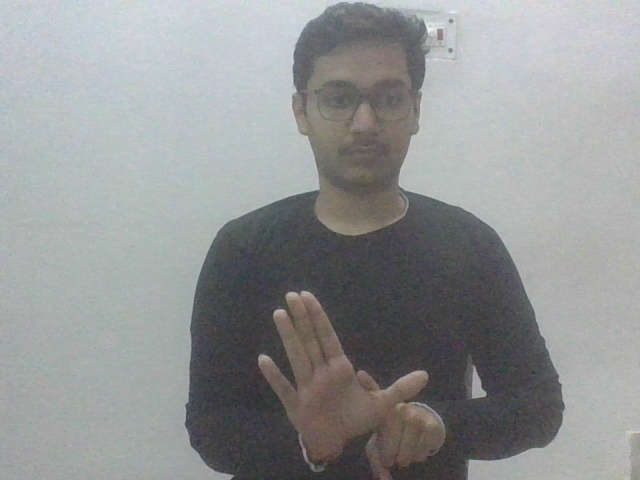Y: (252, 283, 453, 480)
